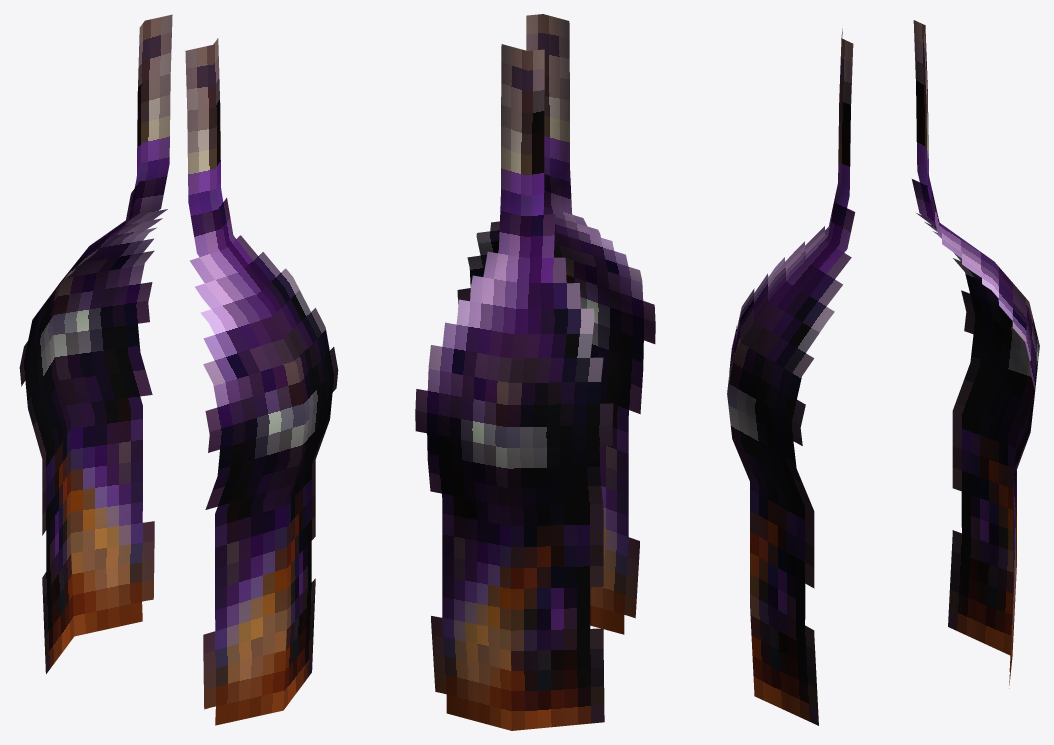
Rendered from StrayBullet.fbx.
3 renders of one model, left to right at view 1: azimuth 30°, elevation 25°; view 2: azimuth 150°, elevation 25°; view 3: azimuth 270°, elevation 25°, orthographic.
Parts seen in each view (by area): view 1: Item_StrayBullet; view 2: Item_StrayBullet; view 3: Item_StrayBullet.
Boxes of the visible parts, x1,y1,x2,y2 form: Item_StrayBullet: (19, 14, 338, 725); Item_StrayBullet: (415, 14, 655, 730); Item_StrayBullet: (727, 20, 1039, 725).
Bounding box in the file's own units: 0.2197 × 0.4996 × 0.2197.
1 material, 1 textured.
